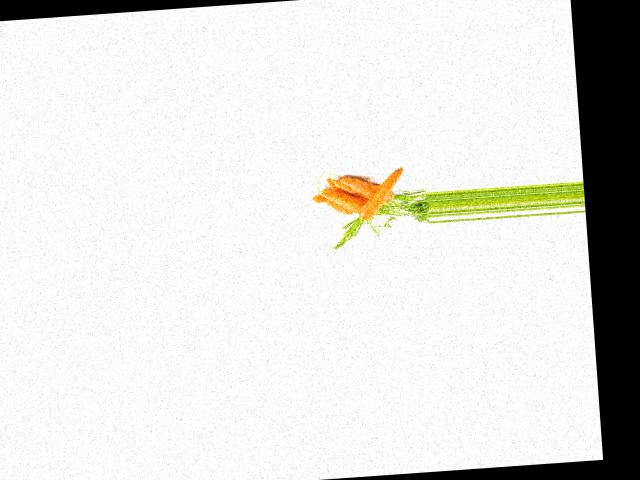carrot: (330, 174, 397, 206)
